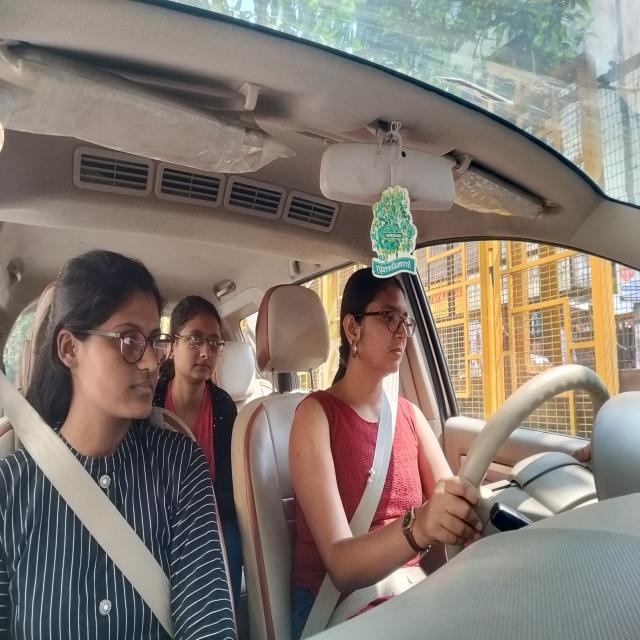person: (43, 242, 162, 456), (339, 258, 414, 389), (169, 275, 230, 417)
